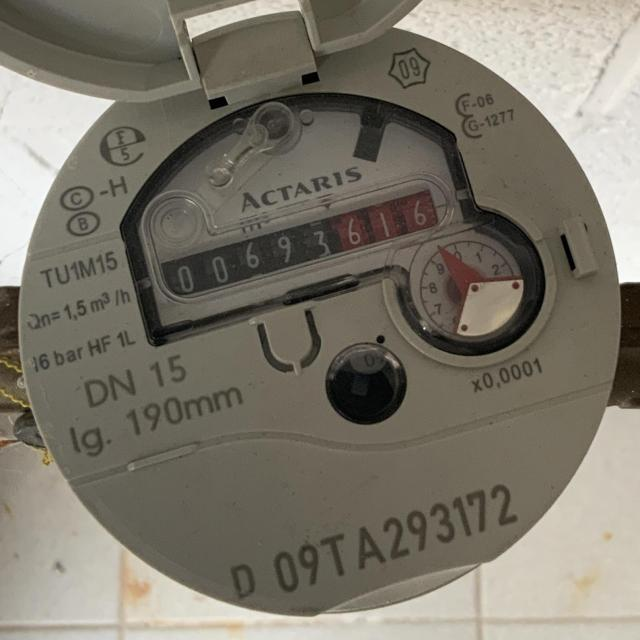gaz_meter: (17, 27, 619, 619)
indication: (155, 176, 448, 304)
